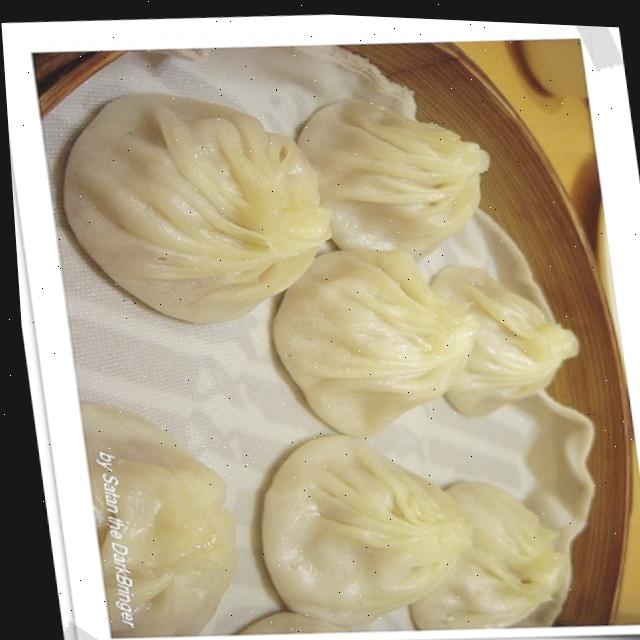带馅早点: (54, 52, 615, 640)
